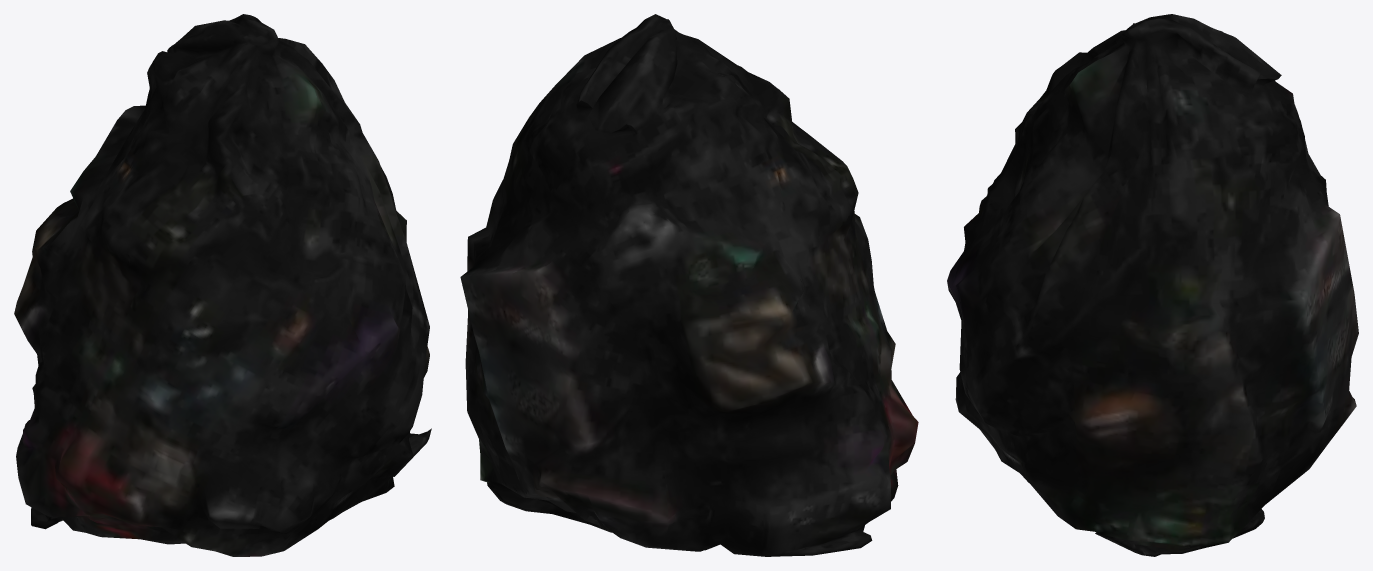
Rendered from trashbag.glb.
3 views of the same model, side by side, from view 1: azimuth 30°, elevation 25°; view 2: azimuth 150°, elevation 25°; view 3: azimuth 270°, elevation 25° (orthographic). The views are drawn at different scales.
Parts seen in each view (by area): view 1: trashbag; view 2: trashbag; view 3: trashbag.
Part boxes in pixels (x1=…): trashbag: x1=14, y1=14, x2=431, y2=556; trashbag: x1=460, y1=14, x2=918, y2=556; trashbag: x1=947, y1=14, x2=1358, y2=556.
Bounding box in the file's own units: 0.5281 × 0.575 × 0.4629.
1 material, 1 textured.
